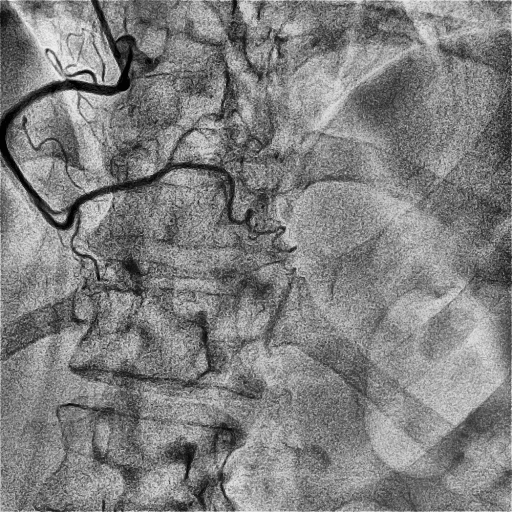pborca: (167, 127, 196, 163)
pda: (173, 162, 298, 253)
rca: (0, 80, 168, 230)
